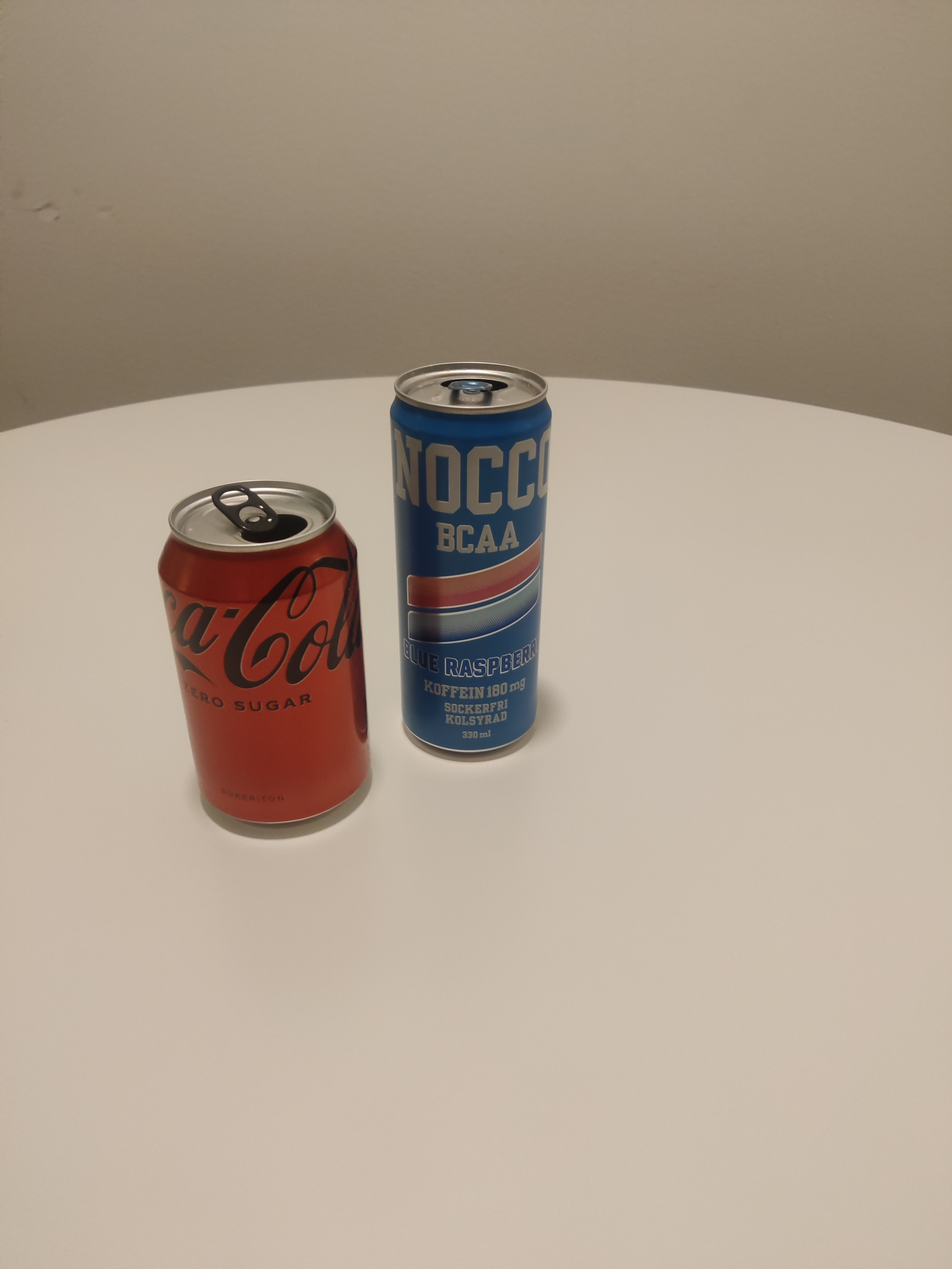Pantburk: (142, 466, 385, 858), (380, 324, 571, 788)
